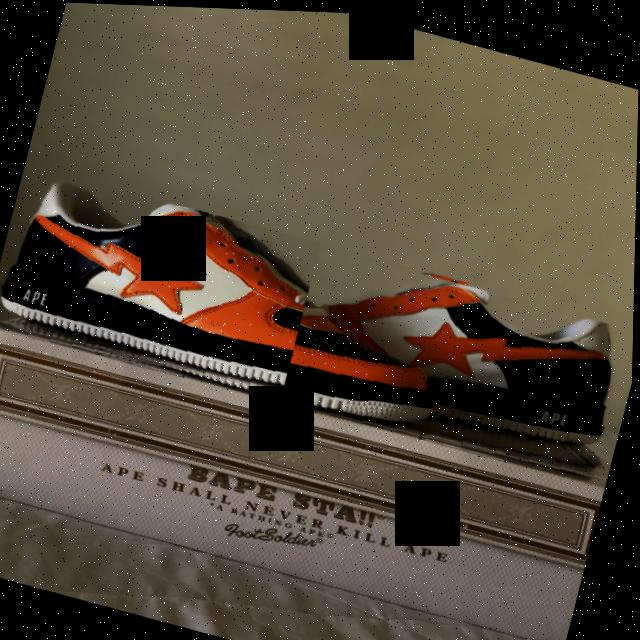shoe: (0, 164, 470, 443), (280, 242, 636, 486)
